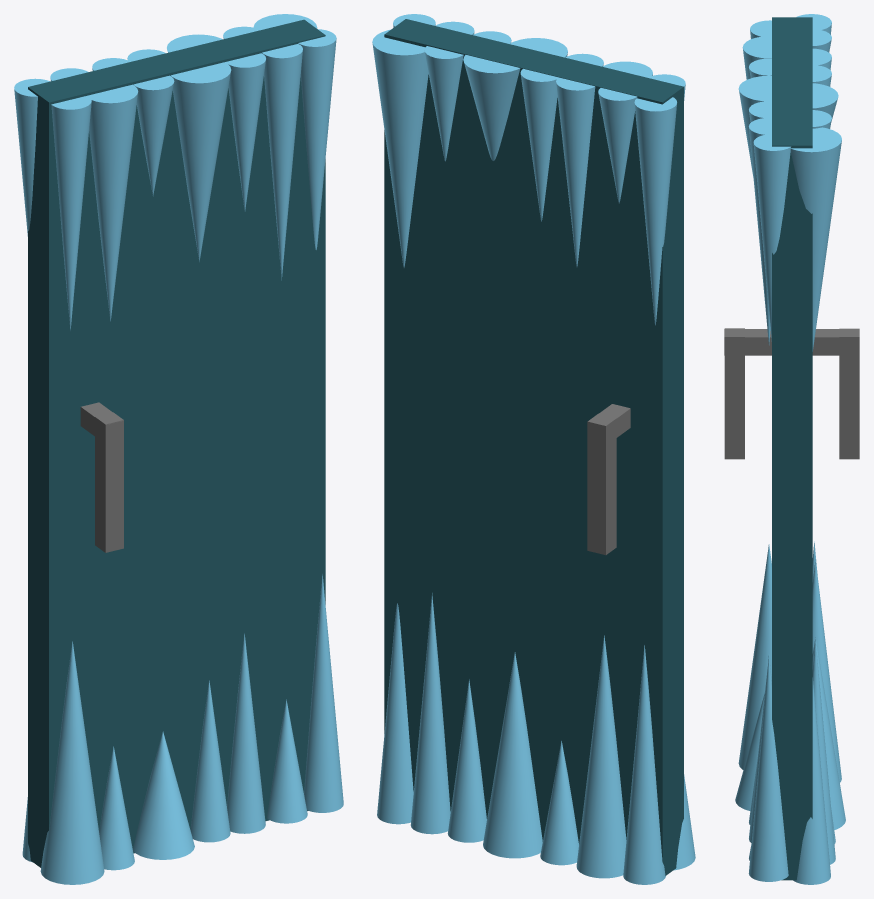
File: SnowDoor.FBX
3 renders of one model, left to right at view 1: azimuth 30°, elevation 25°; view 2: azimuth 150°, elevation 25°; view 3: azimuth 270°, elevation 25°, orthographic. The views are drawn at different scales.
Parts seen in each view (by area): view 1: Box002, Cone027, Cone017, Cone015, Cone001, Cone013, Cone026, Cone002, Cone012, Cone007, Box003, Cone008 (+6 smaller); view 2: Box002, Cone040, Cone032, Cone030, Cone028, Cone033, Cone041, Cone034, Cone038, Box004, Cone029, Cone036 (+7 smaller); view 3: Box002, Cone001, Cone040, Cone002, Cone034, Cone027, Box004, Box003, Box005, Cone032, Cone030, Cone028 (+14 smaller).
Part boxes in pixels (<box>): Box002: <box>28,19,325,867</box>; Cone027: <box>40,641,104,884</box>; Cone017: <box>86,84,138,321</box>; Cone015: <box>170,62,231,261</box>; Cone001: <box>304,573,343,812</box>; Cone013: <box>262,44,302,280</box>; Cone026: <box>51,95,91,331</box>; Cone002: <box>298,29,336,249</box>; Cone012: <box>133,731,194,859</box>; Cone007: <box>227,633,265,833</box>; Box003: <box>95,412,123,552</box>; Cone008: <box>190,680,230,842</box>; Box002: <box>384,19,683,875</box>; Cone040: <box>372,29,428,267</box>; Cone032: <box>576,635,626,878</box>; Cone030: <box>483,652,542,858</box>; Cone028: <box>410,593,450,834</box>; Cone033: <box>623,645,665,884</box>; Cone041: <box>634,97,677,325</box>; Cone034: <box>377,603,413,824</box>; Cone038: <box>556,78,595,267</box>; Box004: <box>587,413,616,555</box>; Cone029: <box>447,679,486,842</box>; Cone036: <box>463,55,520,160</box>; Box002: <box>772,17,812,880</box>; Cone001: <box>748,654,788,881</box>; Cone040: <box>790,127,841,351</box>; Cone002: <box>753,134,790,341</box>; Cone034: <box>793,677,830,884</box>; Cone027: <box>738,544,771,769</box>; Box004: <box>839,328,859,459</box>; Box003: <box>724,328,744,459</box>; Box005: <box>724,329,839,355</box>; Cone032: <box>812,559,841,782</box>; Cone030: <box>812,637,845,829</box>; Cone028: <box>812,640,835,864</box>.
Size of the model in its own units: 16.21 by 39.75 by 6.6.
